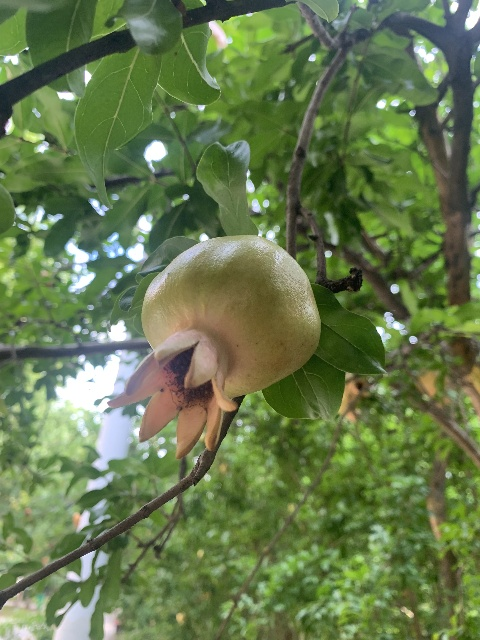mid-growth: (102, 234, 323, 460)
